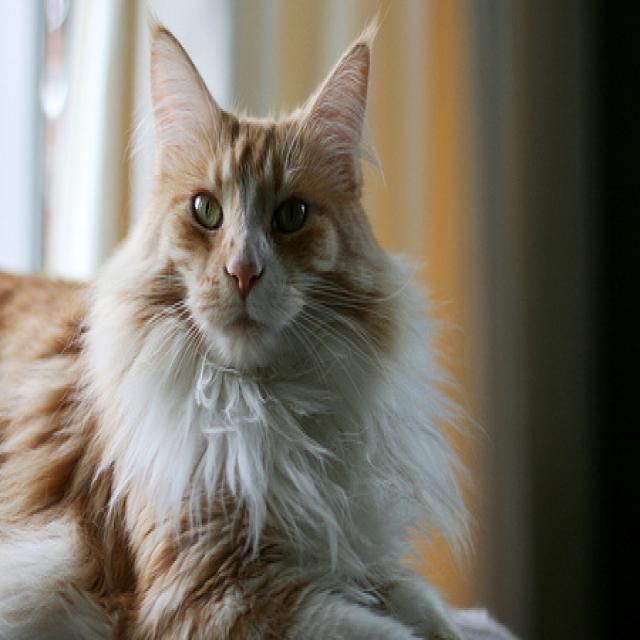Maine Coon: (0, 17, 488, 640)
